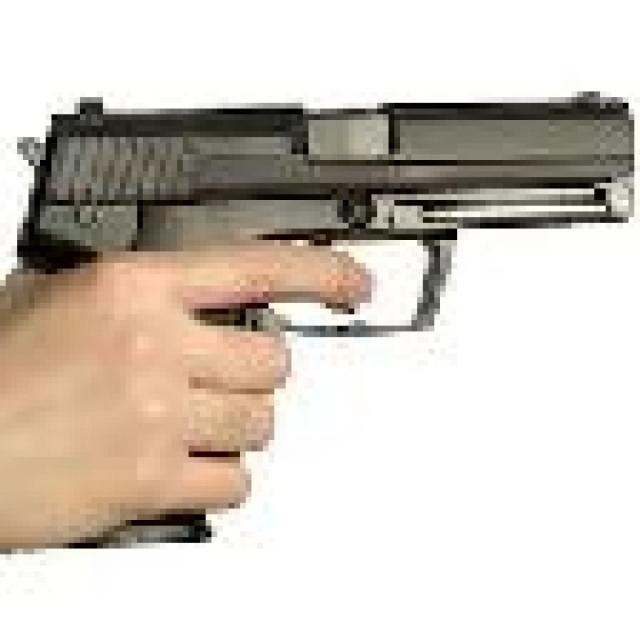pistol: (1, 59, 640, 553)
